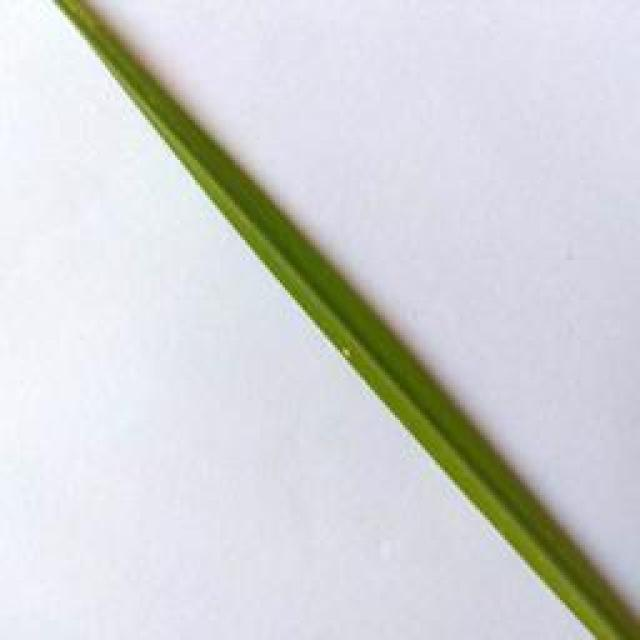Unhealthy: (340, 344, 354, 361)
